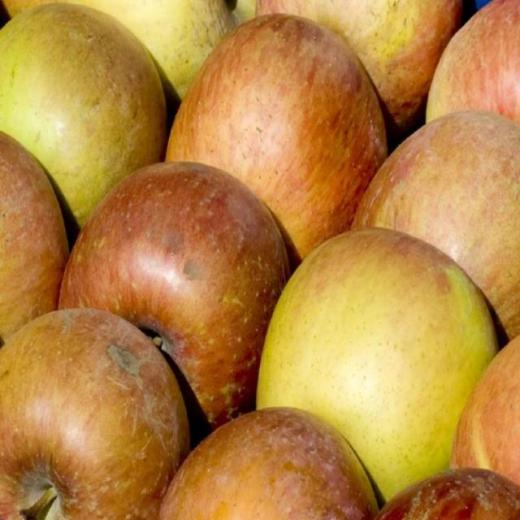Apple: (0, 0, 519, 519), (256, 242, 499, 506)
